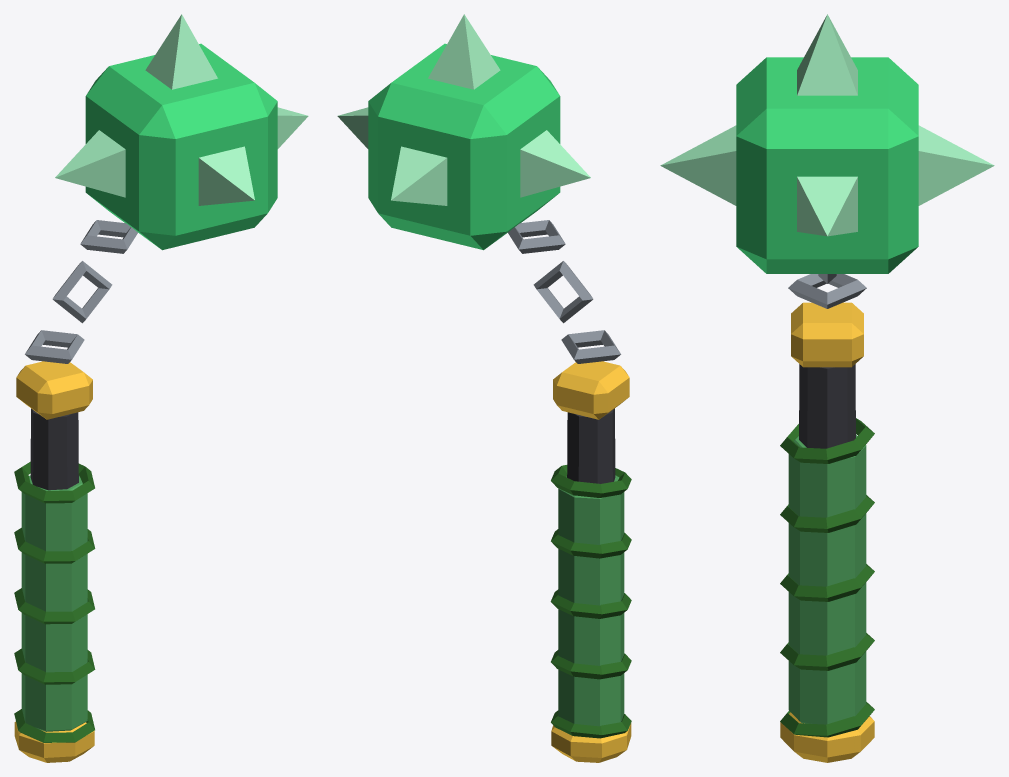
File: EmeraldFlail.fbx
3 renders of one model, left to right at view 1: azimuth 30°, elevation 25°; view 2: azimuth 150°, elevation 25°; view 3: azimuth 270°, elevation 25°, orthographic. The views are drawn at different scales.
Visible parts, largest first — view 1: EmeraldFlail; view 2: EmeraldFlail; view 3: EmeraldFlail.
Boxes of the visible parts, x1,y1,x2,y2 form: EmeraldFlail: [14, 14, 308, 762]; EmeraldFlail: [337, 14, 631, 762]; EmeraldFlail: [660, 14, 994, 762].
Size of the model in its own units: 1.26 by 2.92 by 1.1.
1 material, 1 textured.
